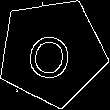O_N: (27, 24, 78, 81)
